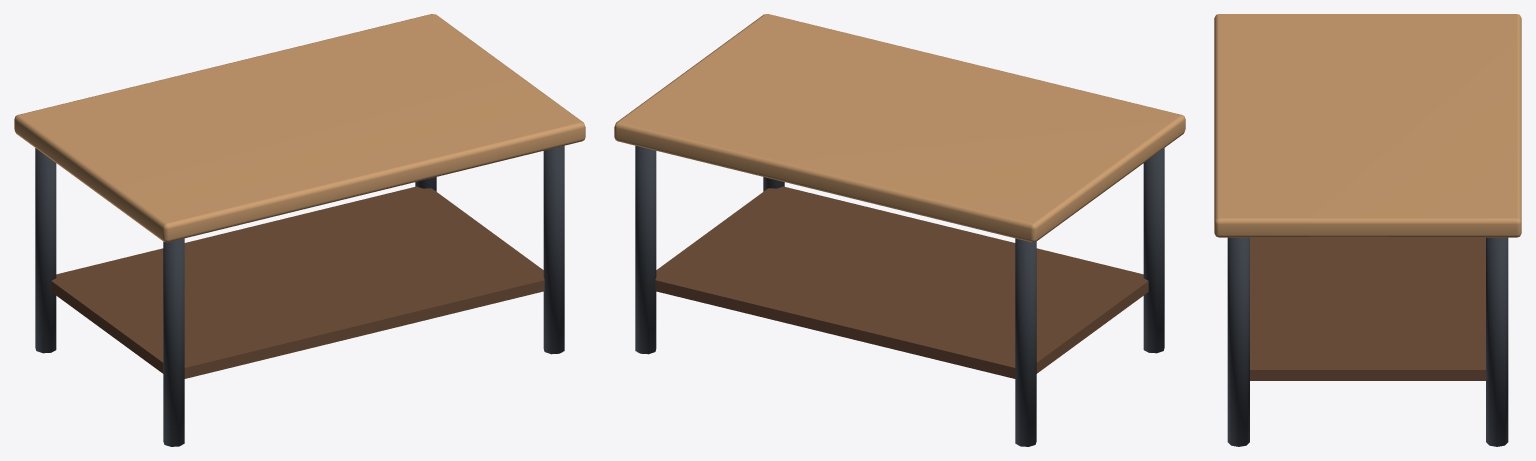
File: CoffeeTableSmall.fbx
The picture shows the model from 3 angles, left to right: view 1: azimuth 30°, elevation 25°; view 2: azimuth 150°, elevation 25°; view 3: azimuth 270°, elevation 25°; orthographic projection.
Parts seen in each view (by area): view 1: CoffeeTableSmallBody; view 2: CoffeeTableSmallBody; view 3: CoffeeTableSmallBody.
Boxes of the visible parts, bbox=[...] form: CoffeeTableSmallBody: bbox=[14, 14, 585, 446]; CoffeeTableSmallBody: bbox=[614, 14, 1185, 446]; CoffeeTableSmallBody: bbox=[1214, 14, 1521, 446].
Size of the model in its own units: 0.8 by 0.4175 by 0.5.
